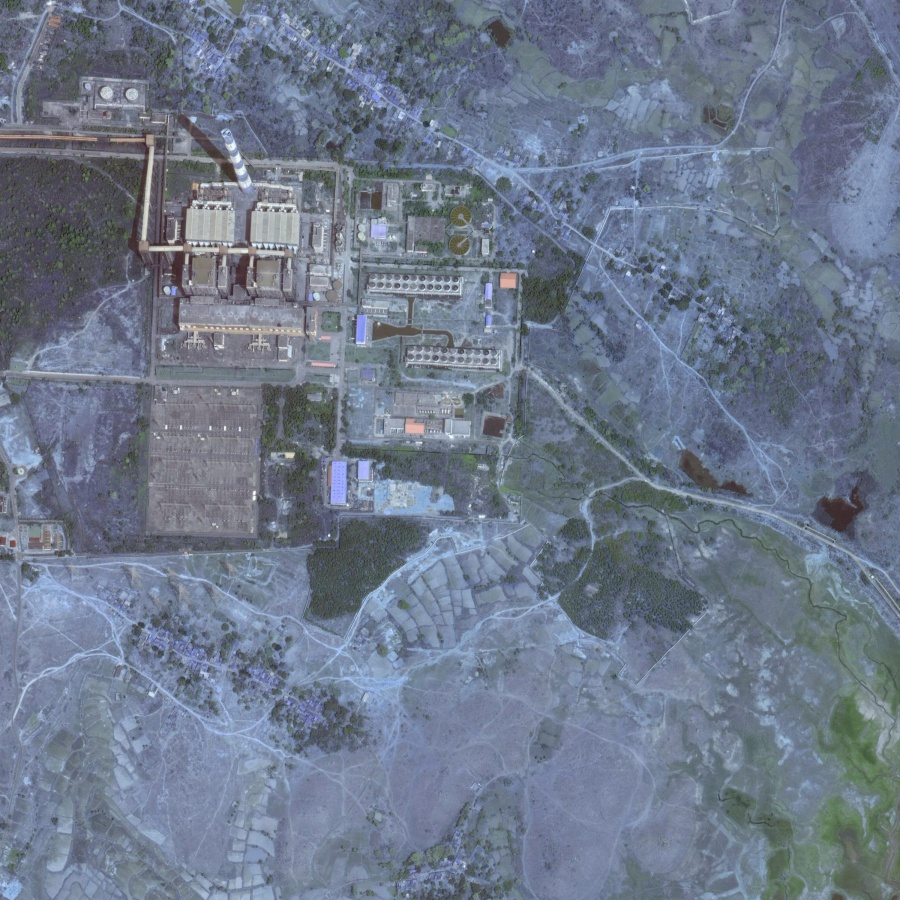PowerPlant: (152, 89, 306, 222)
